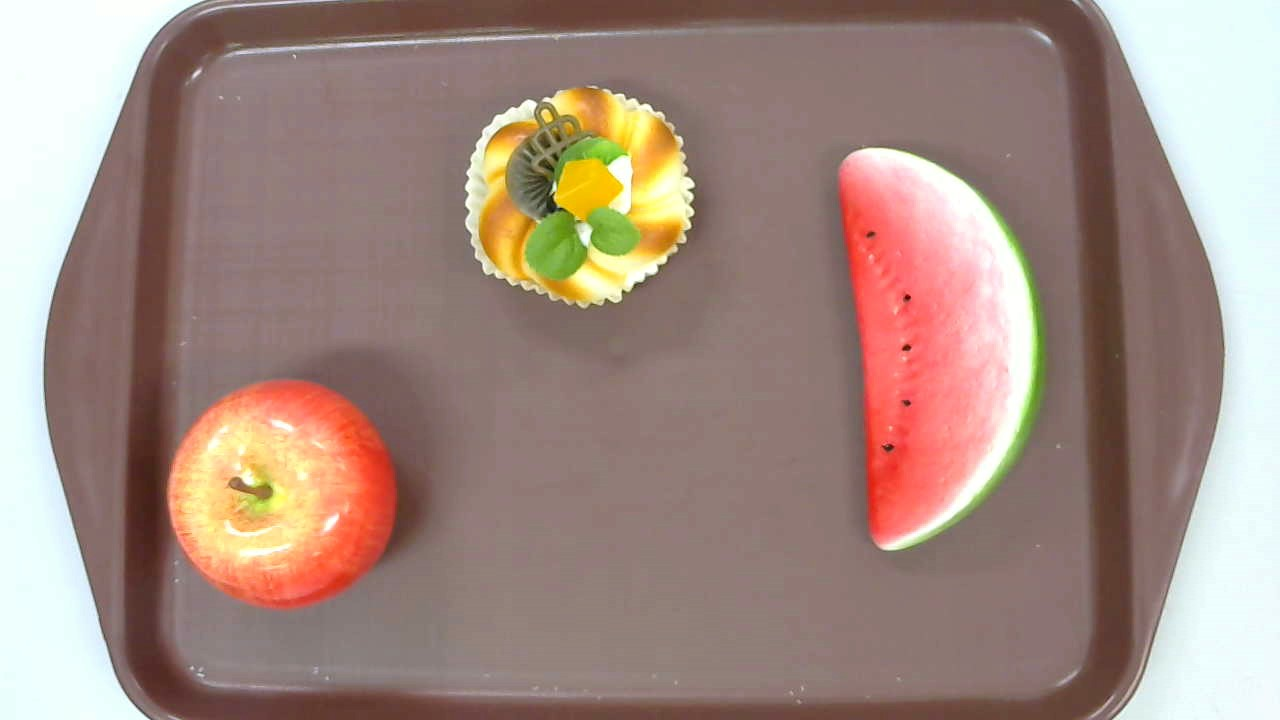fruit tart: (464, 84, 696, 310)
red apple: (166, 377, 396, 612)
water melon: (836, 147, 1047, 552)
